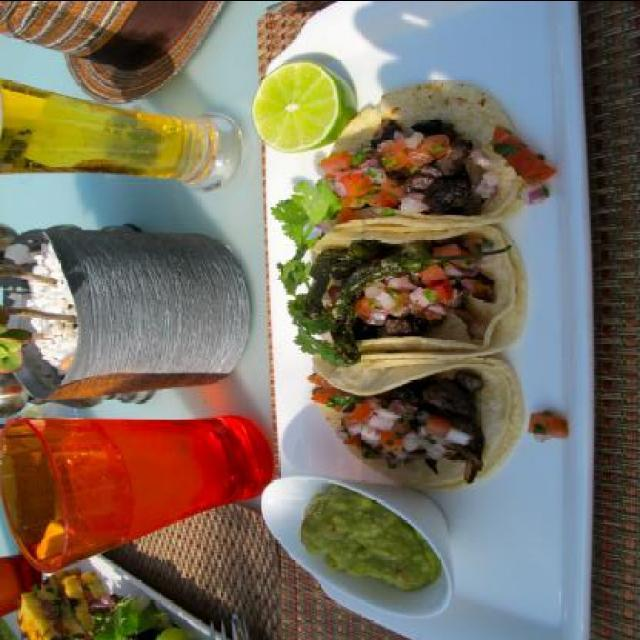Lemon: (251, 59, 357, 152)
